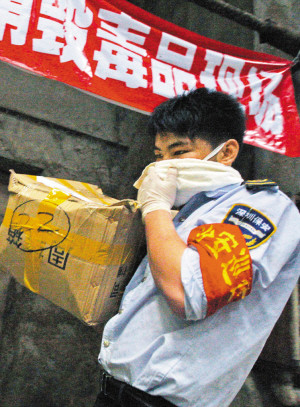face_mask: (151, 123, 214, 212)
